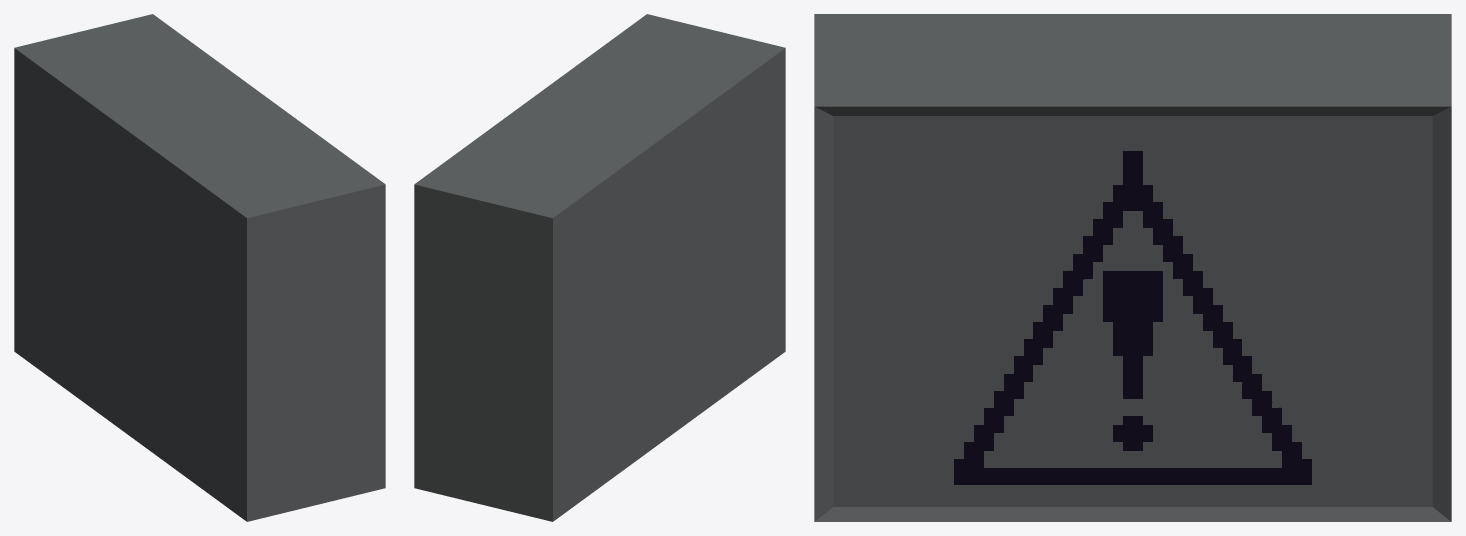
Rendered from CaixadeFusivelFechada.fbx.
The picture shows the model from 3 angles, left to right: view 1: azimuth 30°, elevation 25°; view 2: azimuth 150°, elevation 25°; view 3: azimuth 270°, elevation 25°; orthographic projection. The views are drawn at different scales.
Visible parts, largest first — view 1: Caixa da F.; view 2: Caixa da F.; view 3: Porta, Caixa da F..
Boxes of the visible parts, x1,y1,x2,y2 form: Caixa da F.: (14, 14, 385, 521); Caixa da F.: (414, 14, 785, 521); Porta: (833, 116, 1432, 506); Caixa da F.: (814, 14, 1451, 521).
Bounding box in the file's own units: 216 × 453 × 629.
